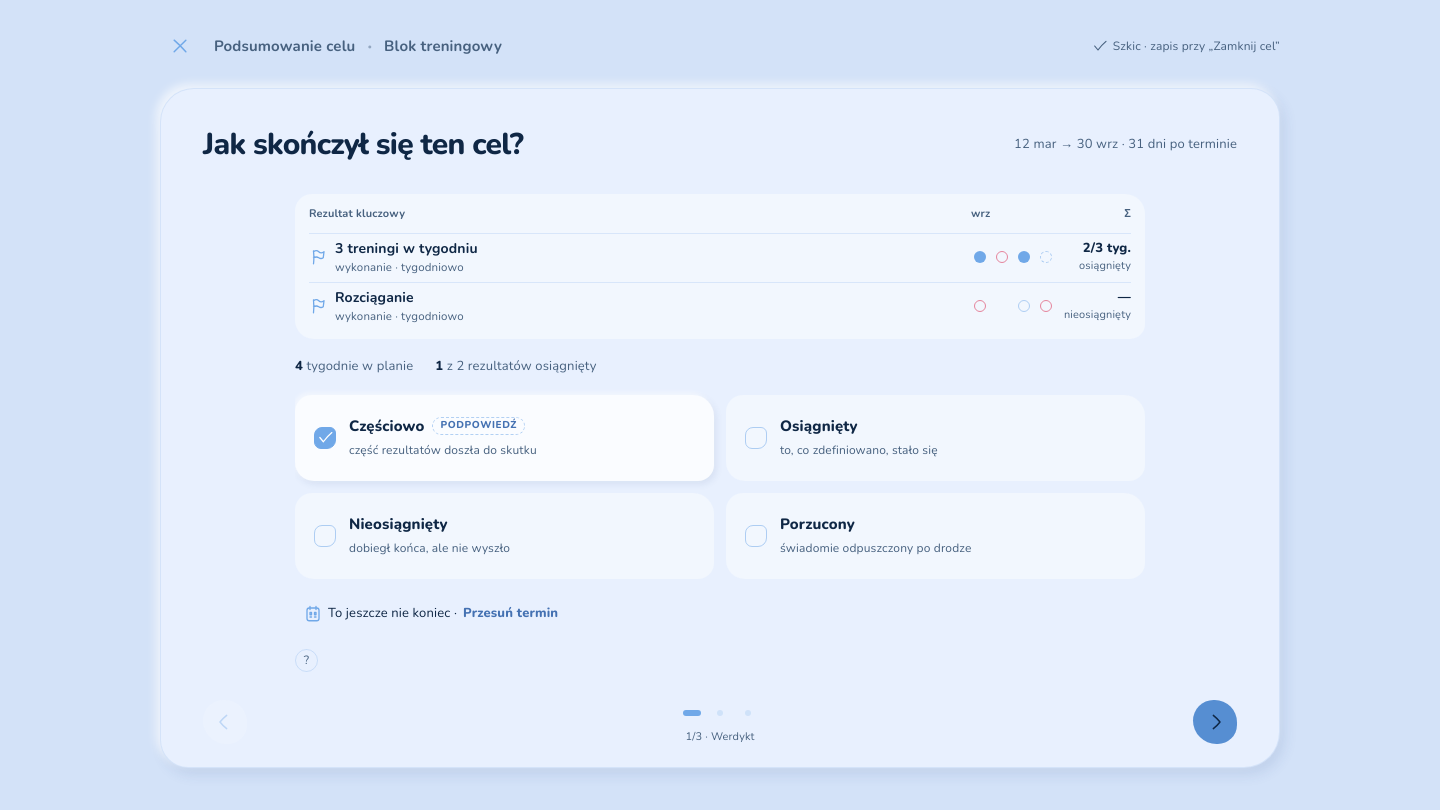
GoalClosingRitual › skips the mirror step when the goal was created without the mirrored fields
The width and height of the screenshot is (1440, 810).
Click the button named "Następny krok".
click(1215, 722)  # box x1=1193 y1=700 x2=1237 y2=744
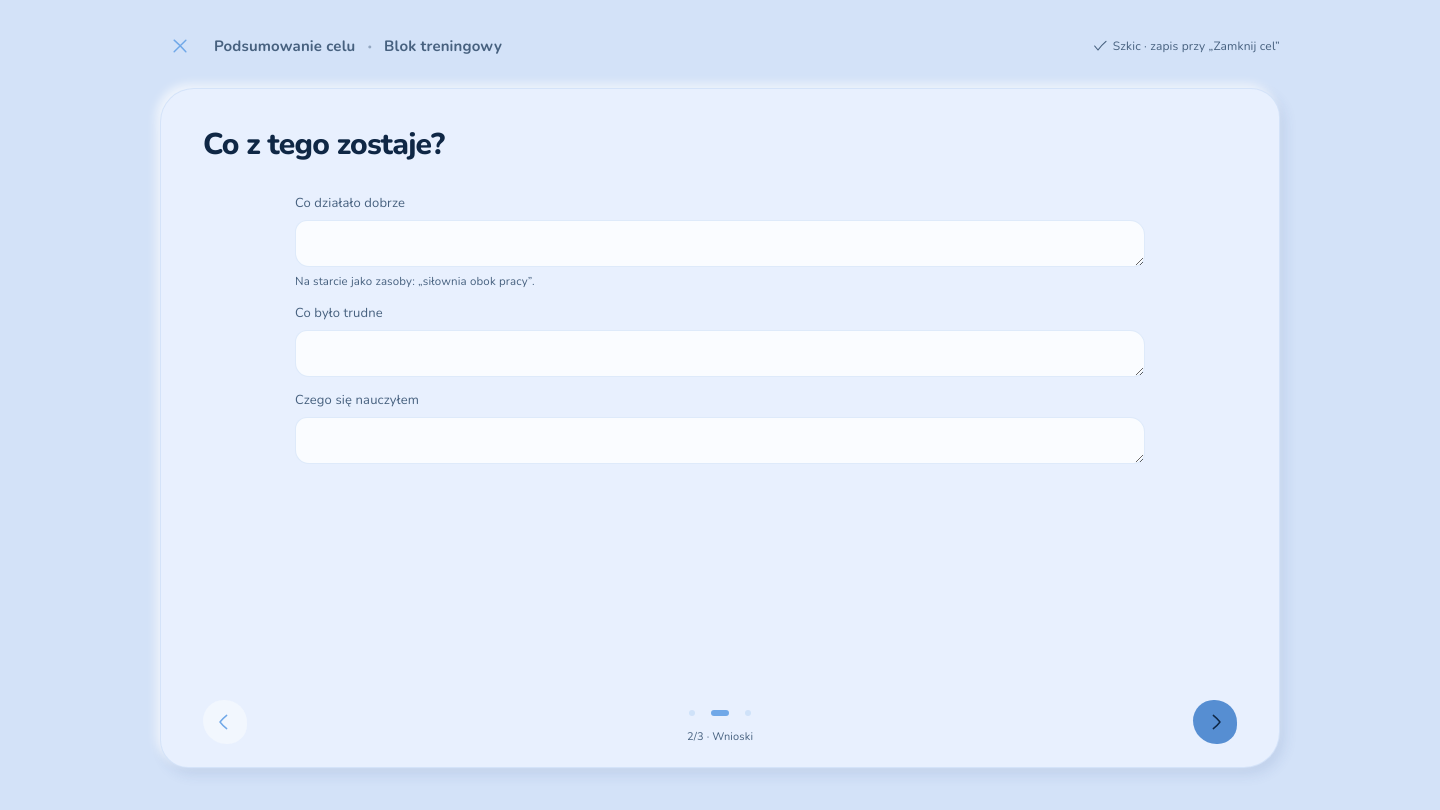
Expected: the heading "Co z tego zostaje?" is shown, x1=203 y1=125 x2=444 y2=164
